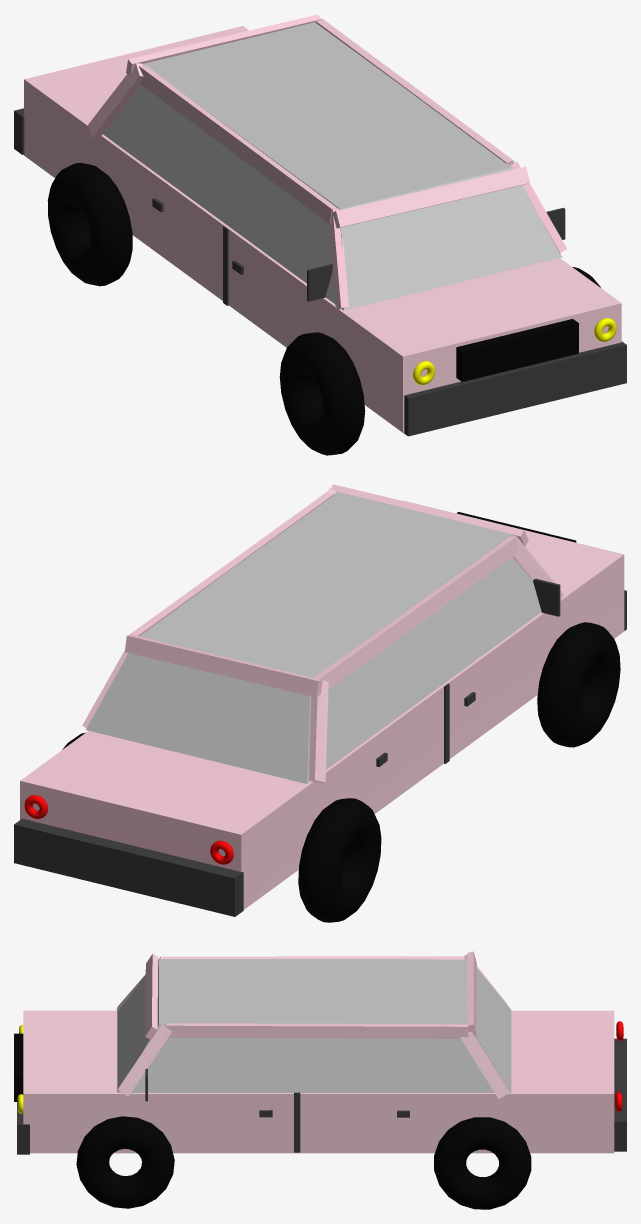
Rendered from Carro.obj.
The picture shows the model from 3 angles, top to bottom: view 1: azimuth 30°, elevation 25°; view 2: azimuth 150°, elevation 25°; view 3: azimuth 270°, elevation 25°; orthographic projection. The views are drawn at different scales.
Bounding box in the file's own units: 203 × 145 × 467.
6 materials, 1 textured.
